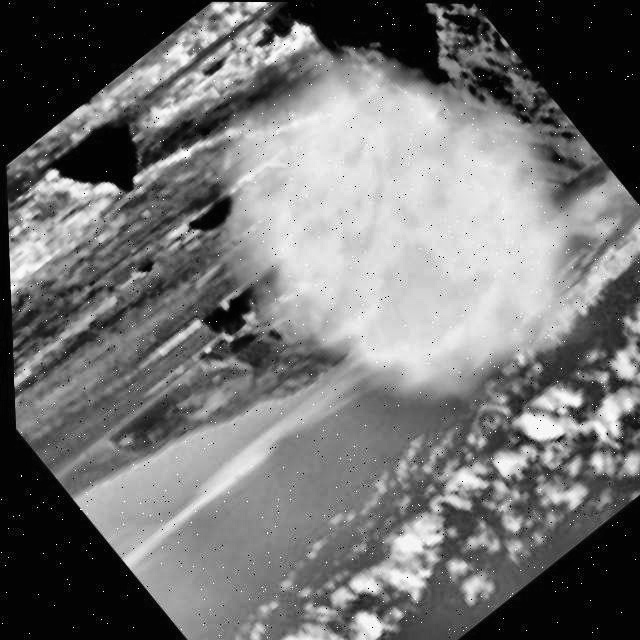Smoke: (127, 2, 640, 498)
